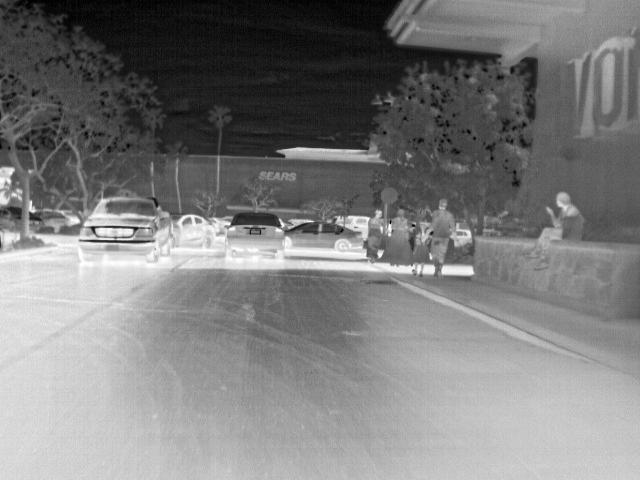car: (75, 193, 173, 264), (226, 211, 287, 261), (282, 219, 364, 253), (172, 212, 215, 248), (0, 204, 20, 234), (50, 207, 73, 227), (342, 214, 366, 228), (453, 228, 470, 247), (29, 212, 42, 232), (211, 218, 232, 230), (41, 207, 53, 225)
person: (536, 189, 582, 243), (431, 197, 452, 278), (389, 207, 412, 267), (367, 208, 384, 264), (412, 224, 428, 277)
